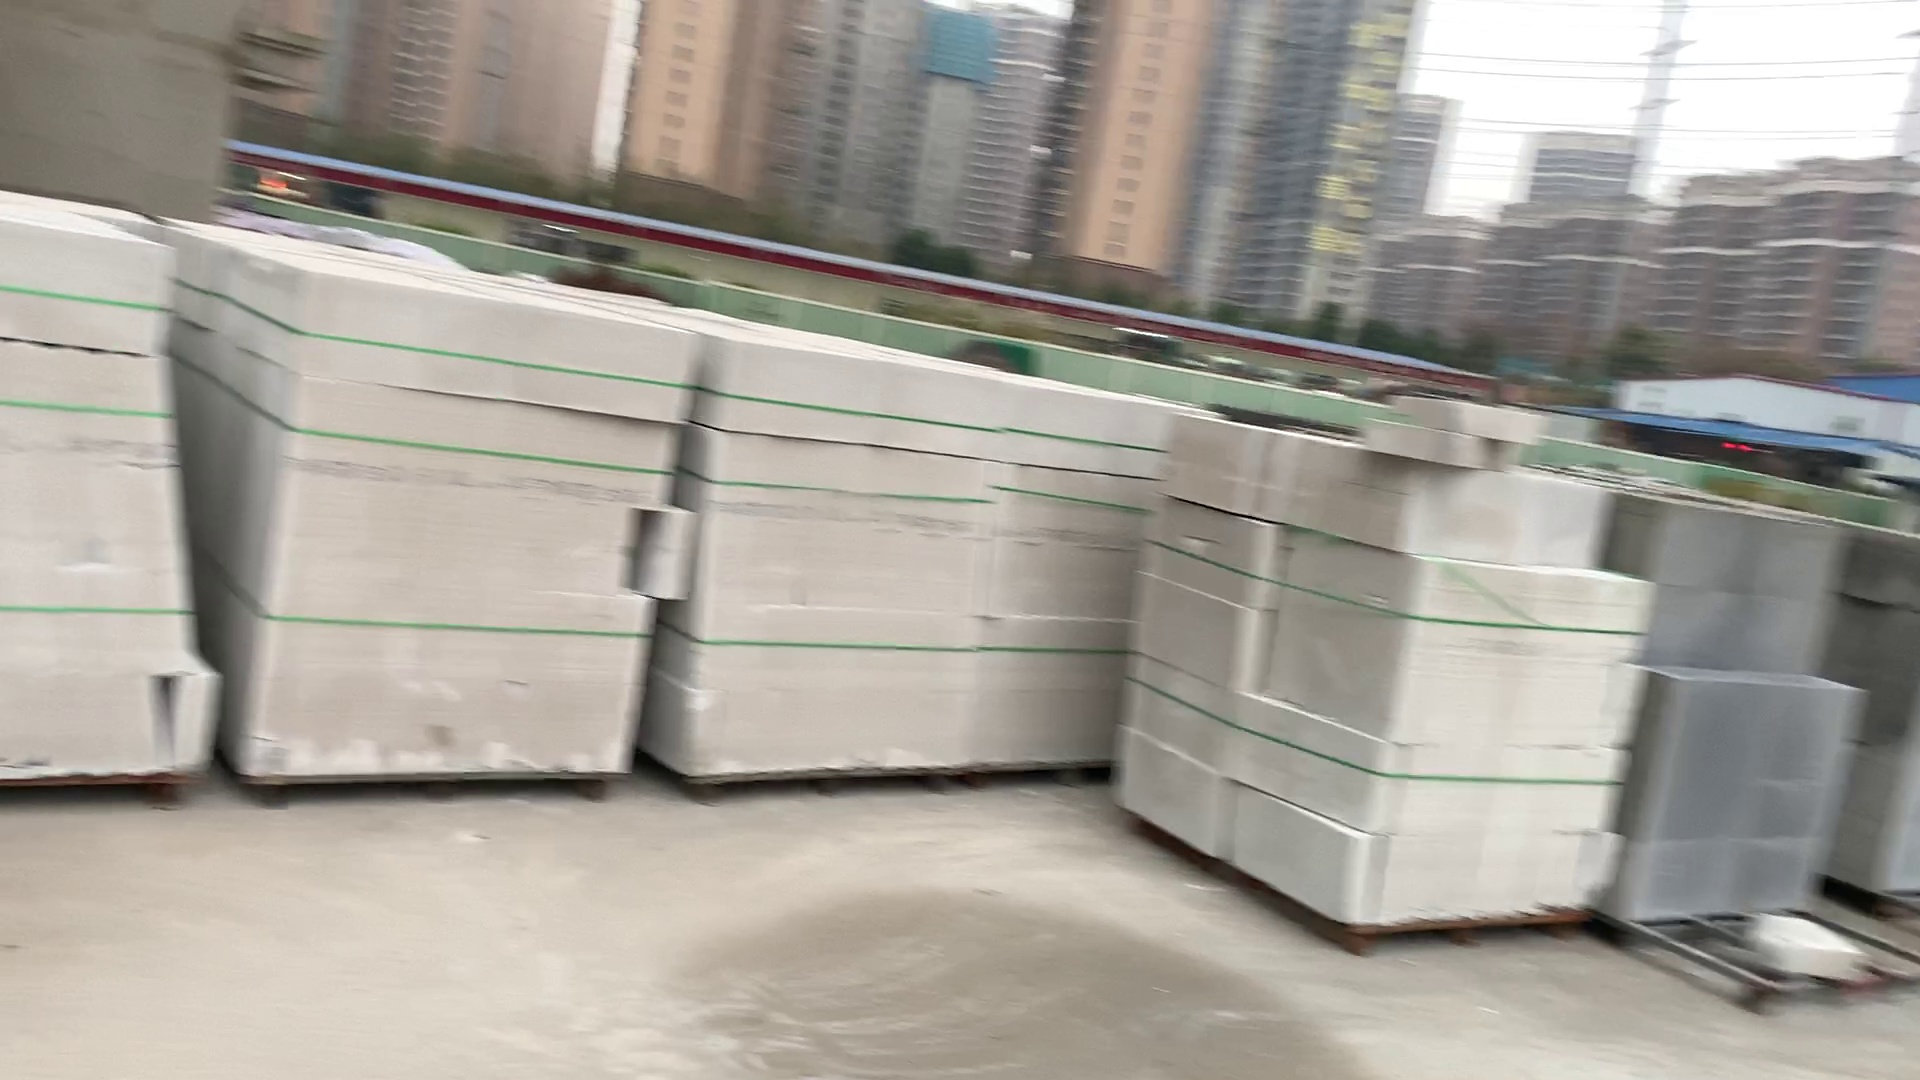brickwork: (185, 229, 669, 833), (1138, 378, 1631, 949), (674, 320, 1228, 823), (1, 185, 204, 789), (1607, 489, 1836, 924), (1845, 492, 1920, 930)
